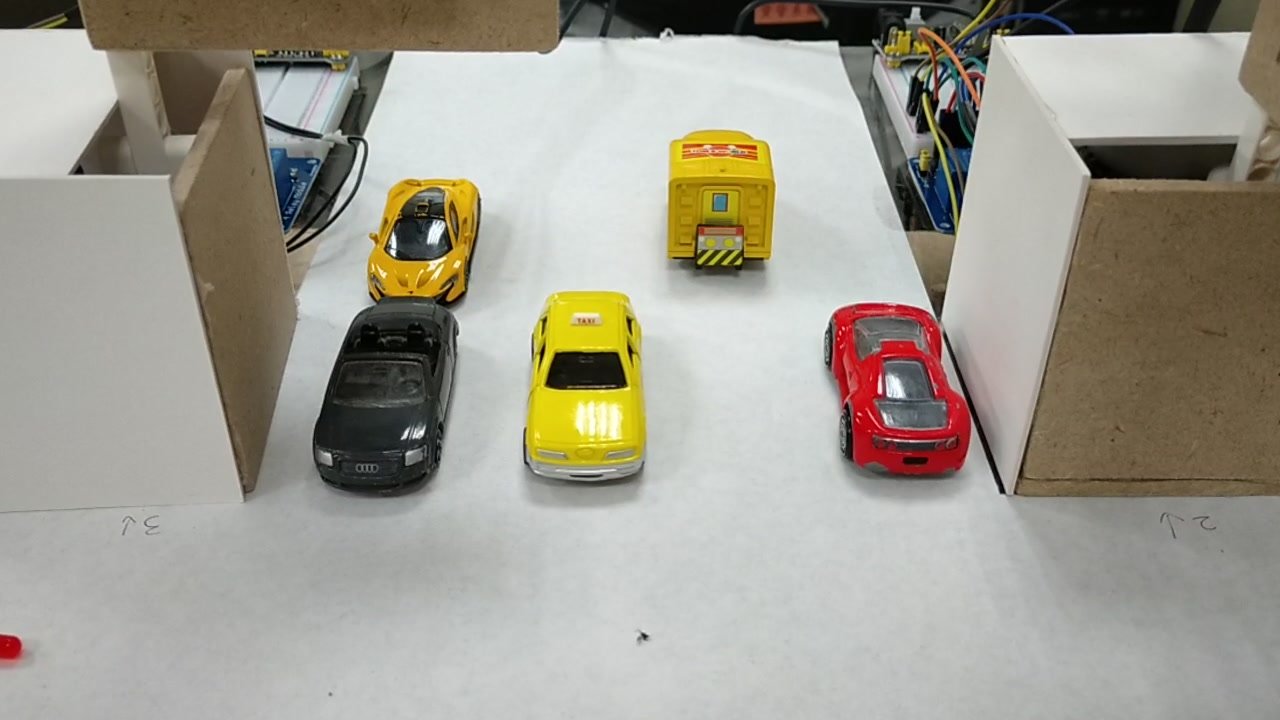car: (821, 298, 975, 485), (314, 301, 453, 489), (533, 289, 637, 476), (365, 167, 489, 300)
